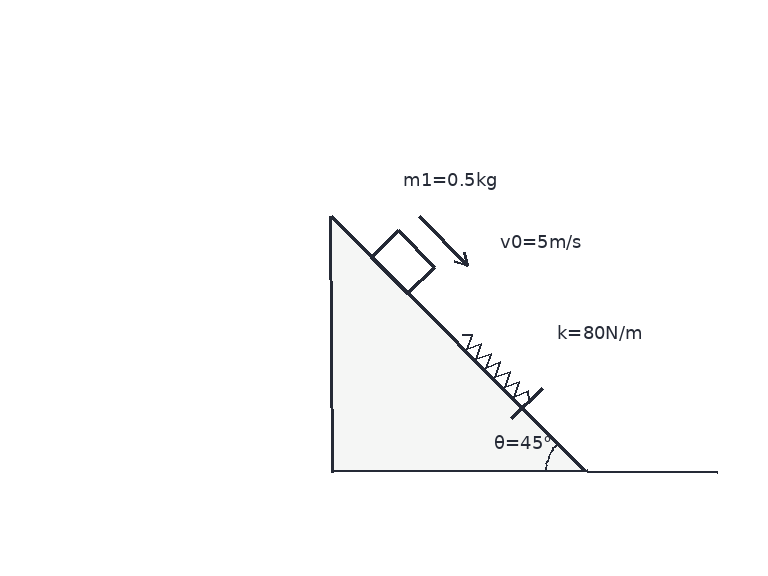block: (369, 228, 436, 294)
ramp: (329, 214, 588, 473)
spring: (461, 333, 531, 403)
